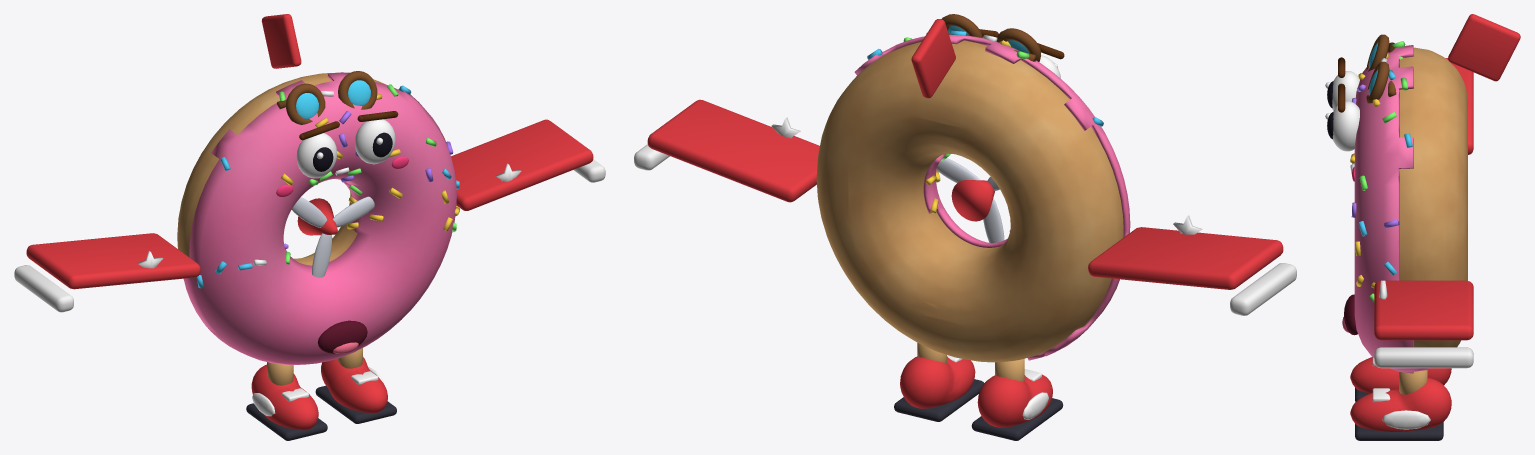
Rendered from SM_Ponchikello_Bombardino.fbx.
3 views of the same model, side by side, from view 1: azimuth 30°, elevation 25°; view 2: azimuth 150°, elevation 25°; view 3: azimuth 270°, elevation 25° (orthographic). The views are drawn at different scales.
Visible parts, largest first — view 1: Ponchikello_Bombardino; view 2: Ponchikello_Bombardino; view 3: Ponchikello_Bombardino.
Part boxes in pixels (box(x1,y1,x2,y2)): Ponchikello_Bombardino: box(14, 14, 605, 440); Ponchikello_Bombardino: box(634, 14, 1296, 440); Ponchikello_Bombardino: box(1325, 14, 1520, 440).
Bounding box in the file's own units: 1.9 × 1.25 × 0.5505.
Materials: 1 (1 with a texture image).
